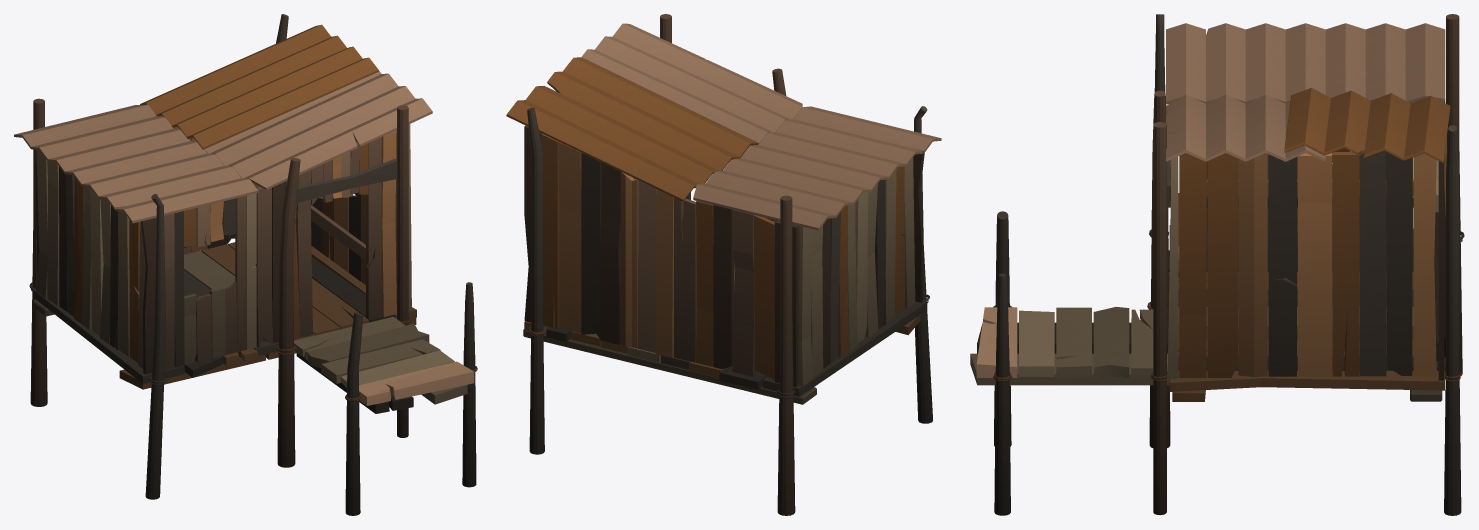
The model's file is SM_Sw_Shed_02.fbx.
3 renders of one model, left to right at view 1: azimuth 30°, elevation 25°; view 2: azimuth 150°, elevation 25°; view 3: azimuth 270°, elevation 25°, orthographic. The views are drawn at different scales.
Visible parts, largest first — view 1: SM_Marais_Cabanon_02; view 2: SM_Marais_Cabanon_02; view 3: SM_Marais_Cabanon_02.
Part boxes in pixels (left/top/right/bottom): SM_Marais_Cabanon_02: left=14, top=14, right=477, bottom=515; SM_Marais_Cabanon_02: left=506, top=14, right=941, bottom=515; SM_Marais_Cabanon_02: left=970, top=14, right=1464, bottom=515.
Size of the model in its own units: 307 by 320 by 369.
